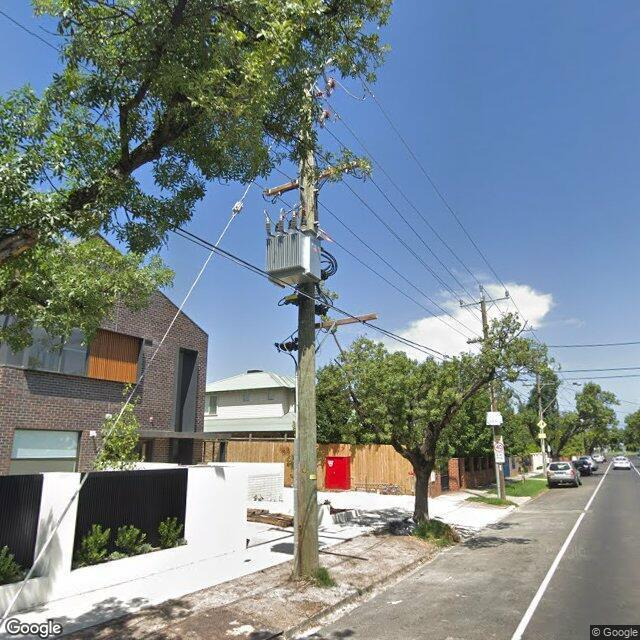HV-transmission: (312, 78, 334, 128), (460, 285, 510, 305)
crossarm: (264, 159, 361, 196), (302, 51, 347, 76), (315, 313, 377, 329), (460, 297, 510, 308), (466, 335, 508, 344), (522, 383, 555, 386)
streetlight: (542, 382, 582, 414)
timber-pole: (293, 69, 319, 582), (480, 296, 506, 502), (536, 373, 546, 478)
transformer: (266, 209, 322, 289)
